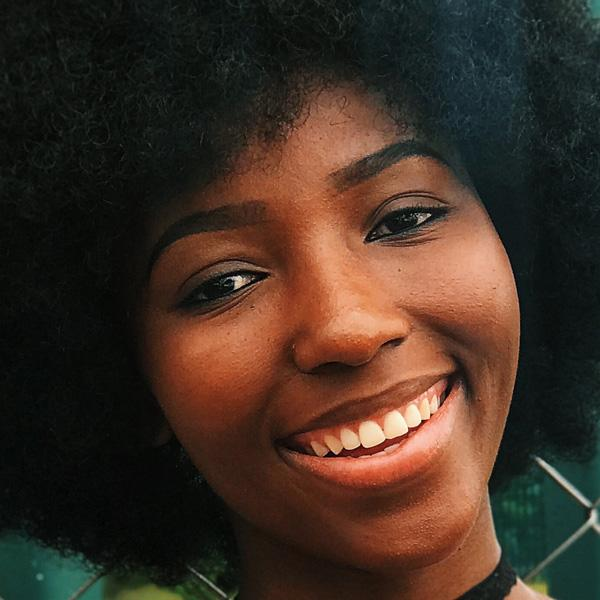Eyes: (159, 245, 282, 325), (359, 178, 462, 251)
